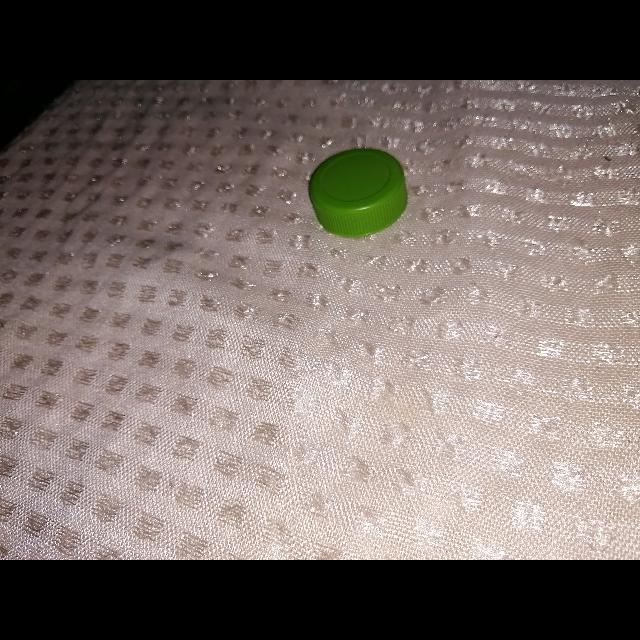plastic_bottle_cap: (308, 146, 408, 236)
